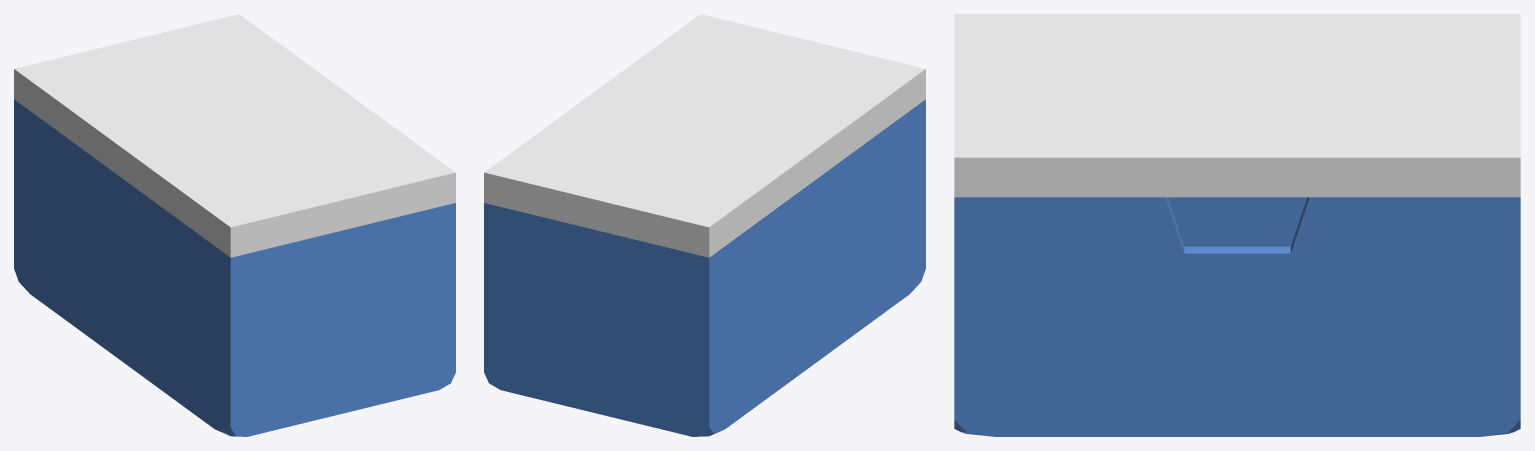
The model's file is cooler.glb.
The picture shows the model from 3 angles, left to right: view 1: azimuth 30°, elevation 25°; view 2: azimuth 150°, elevation 25°; view 3: azimuth 270°, elevation 25°; orthographic projection. The views are drawn at different scales.
Visible parts, largest first — view 1: Box, Lid; view 2: Box, Lid; view 3: Box, Lid.
Boxes of the visible parts, bbox=[...] form: Box: bbox=[14, 99, 455, 436]; Lid: bbox=[14, 14, 455, 257]; Box: bbox=[484, 99, 925, 436]; Lid: bbox=[484, 14, 925, 257]; Box: bbox=[954, 197, 1520, 436]; Lid: bbox=[954, 14, 1520, 197].
Size of the model in its own units: 1.8 by 1.63 by 3.
